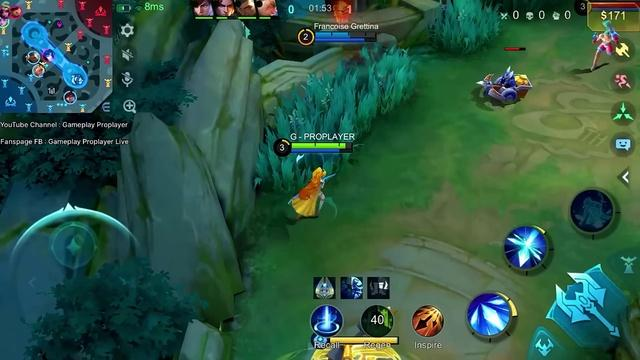Adc_Aliado: (0, 17, 10, 29)
Adc_Enemigo: (9, 5, 22, 19)
Arbusto: (256, 45, 415, 192), (429, 0, 502, 54)
Clint: (591, 19, 618, 70)
EXP_Lane: (102, 101, 113, 114)
Esbirro_Enemigo: (476, 67, 532, 102)
Exp_Aliado: (32, 65, 47, 78)
Gold_Lane: (0, 0, 12, 14)
HP_Aliado: (316, 31, 376, 36)
HP_Enemigo: (592, 3, 640, 8)
HP_Heroe_Principal: (291, 143, 353, 149)
Hechizo_Batalla: (411, 305, 443, 336)
Jungla_Aliado: (27, 50, 40, 63)
Mana: (292, 148, 354, 152), (316, 38, 376, 41), (592, 9, 639, 12)
Mid_Aliado: (63, 91, 78, 103)
Mid_Enemigo: (40, 49, 56, 63)
Minimapa: (0, 1, 114, 115)
Miya: (289, 167, 333, 217)
Roamer_Enemigo: (0, 8, 12, 18)
Skill1: (467, 292, 516, 339)
Skill2: (505, 226, 548, 268)
Tigreal: (324, 49, 375, 113)
